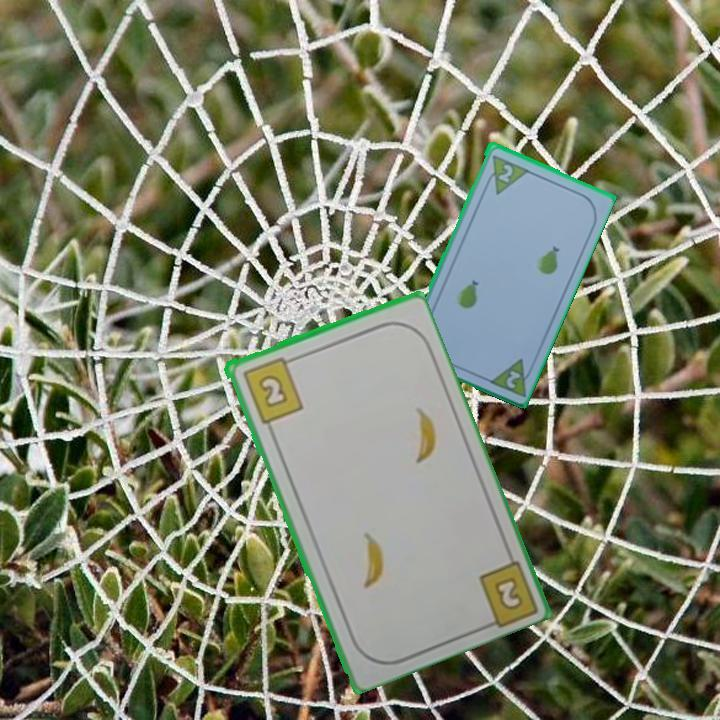2b: (238, 353, 306, 426), (490, 573, 526, 613)
2p: (494, 160, 516, 185), (502, 366, 523, 391)
